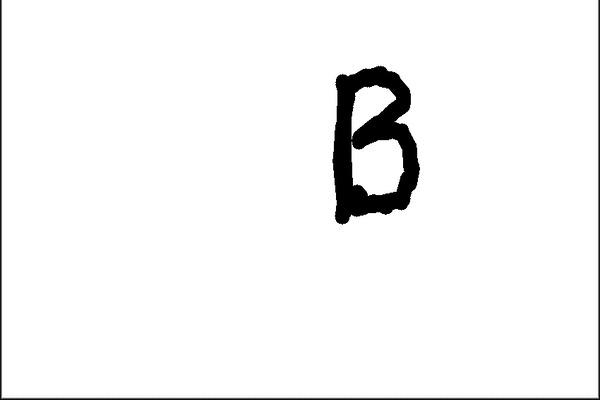B: (323, 58, 424, 230)
